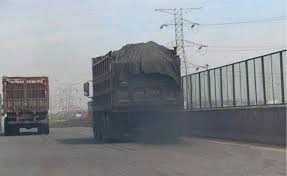smoke: (118, 99, 214, 154)
